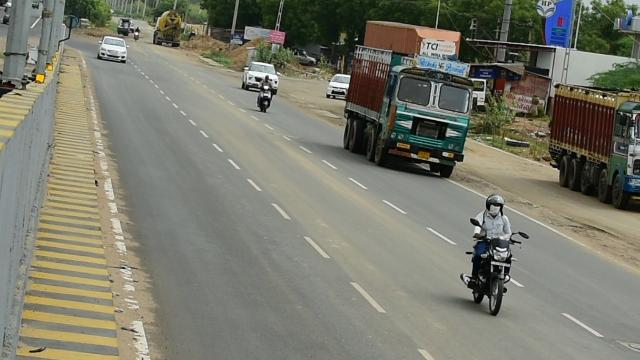With Helmet: (482, 192, 510, 216)
Without Helmet: (265, 74, 269, 84)
